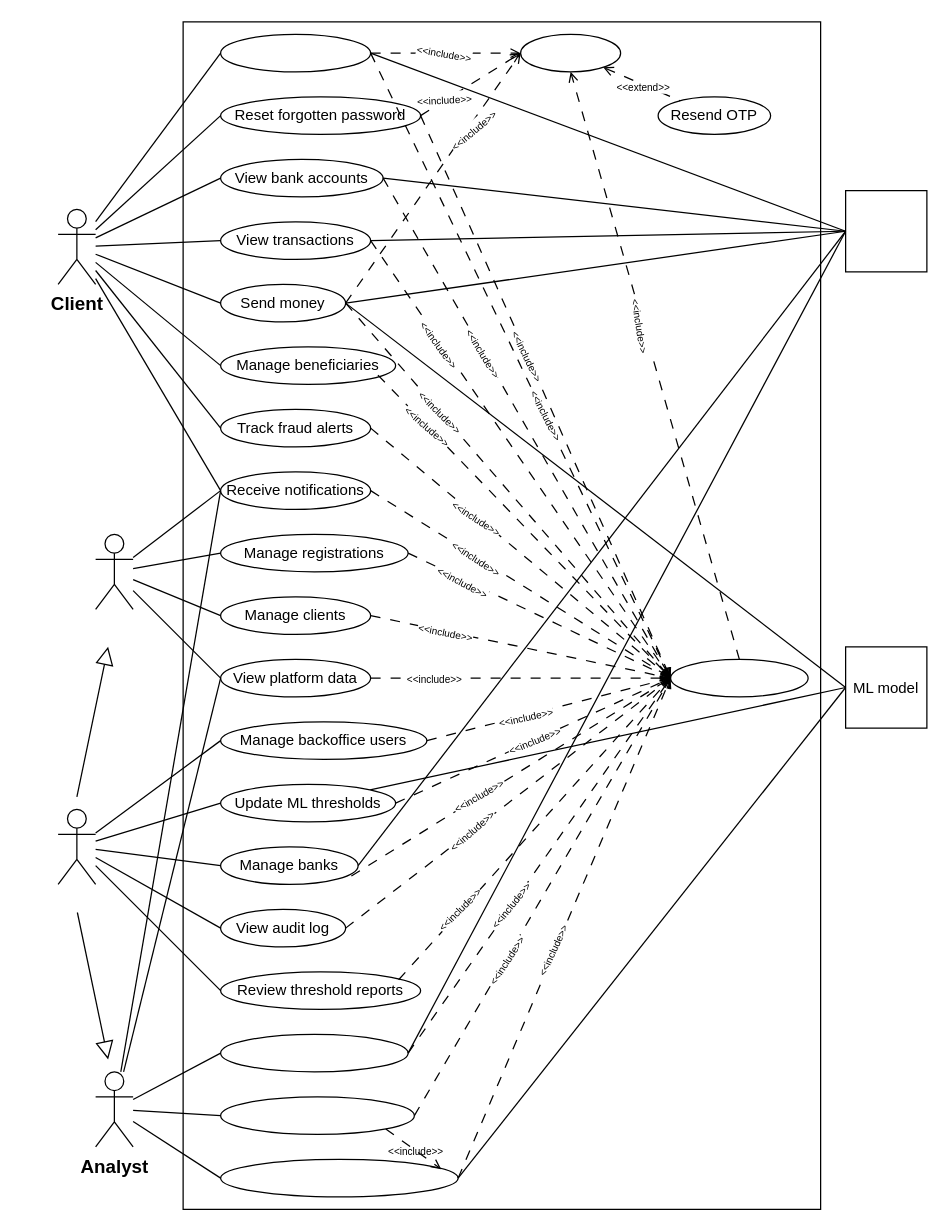
The diagram is 949 pixels wide and 1231 high, and some of its shapes have lost their labels. The shapes that lost their labels are listed below. From the top down, each one's box as (x1, y1, x2, y2) in pixels, then its label:
(219, 33, 371, 72): Request sign up
(519, 33, 621, 72): Verify OTP
(844, 189, 927, 272): Centralized CBS
(94, 533, 133, 609): Admin
(669, 658, 808, 697): Authenticate
(57, 808, 96, 884): SuperAdmin
(219, 1033, 408, 1072): Review fraud alerts
(219, 1096, 414, 1134): Submit threshold report
(219, 1158, 458, 1197): View ML metrics & config
